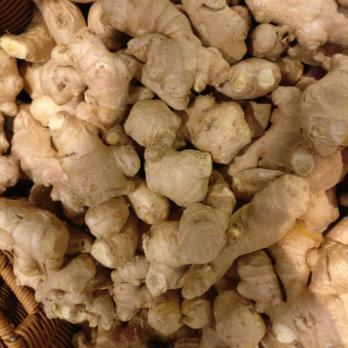Ginger: (3, 2, 348, 348)
